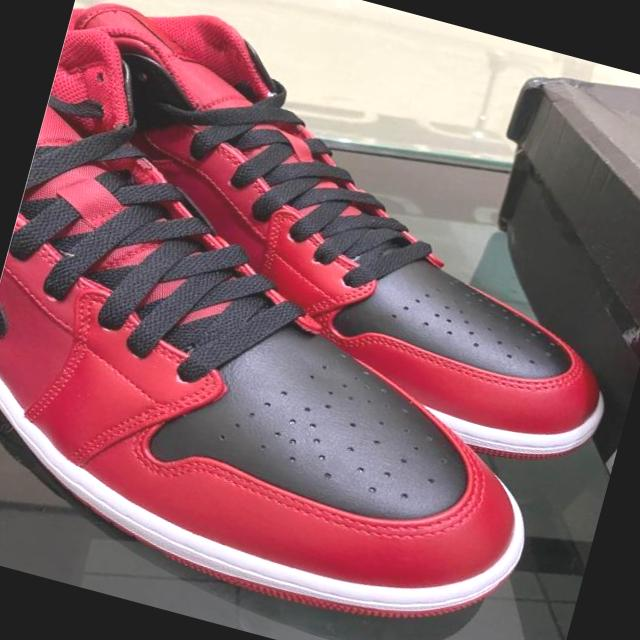nike_original_jordan: (0, 21, 637, 640), (0, 0, 640, 486)
